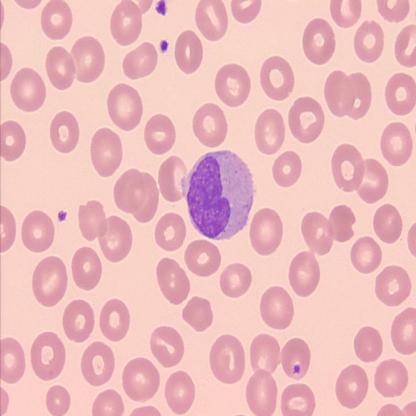Monocyte: (180, 149, 256, 242)
